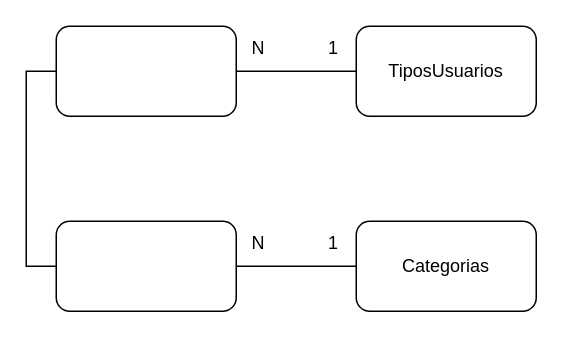
Some shapes in this 563 by 338 pixel diagram are drawn without their labels. Each missing label, with the box of its shape:
Produtos: (55, 220, 236, 311)
Usuarios: (55, 25, 236, 116)
